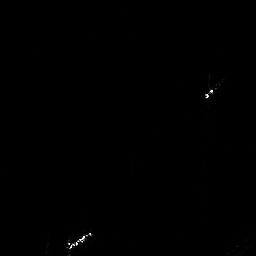ship: (66, 231, 93, 250), (203, 85, 218, 103)
